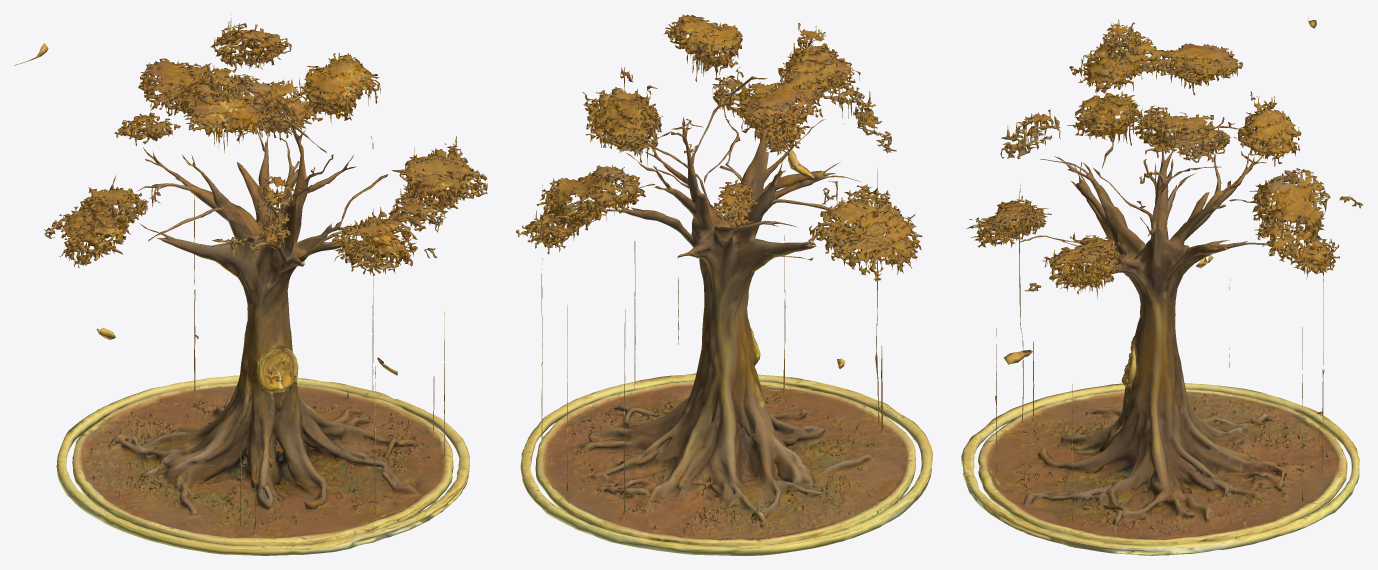
The model's file is Meshy_AI_Enchanted_Luminescenc_1115232841_texture.glb.
3 renders of one model, left to right at view 1: azimuth 30°, elevation 25°; view 2: azimuth 150°, elevation 25°; view 3: azimuth 270°, elevation 25°, orthographic. The views are drawn at different scales.
Size of the model in its own units: 1.77 by 1.96 by 1.7.
1 material, 1 textured.
